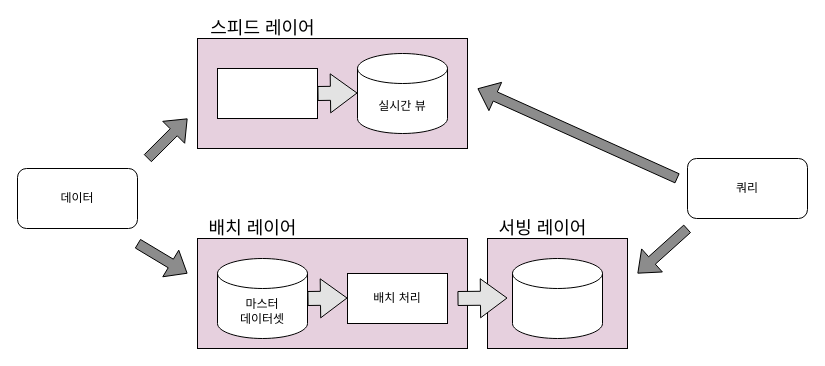
This 825x366 diagram has some shape labels left out. The centre of each missing label's shape, as x and y in pixels:
"배치 뷰" goes at pixel 557 298.
"스트림 처리" goes at pixel 267 93.
